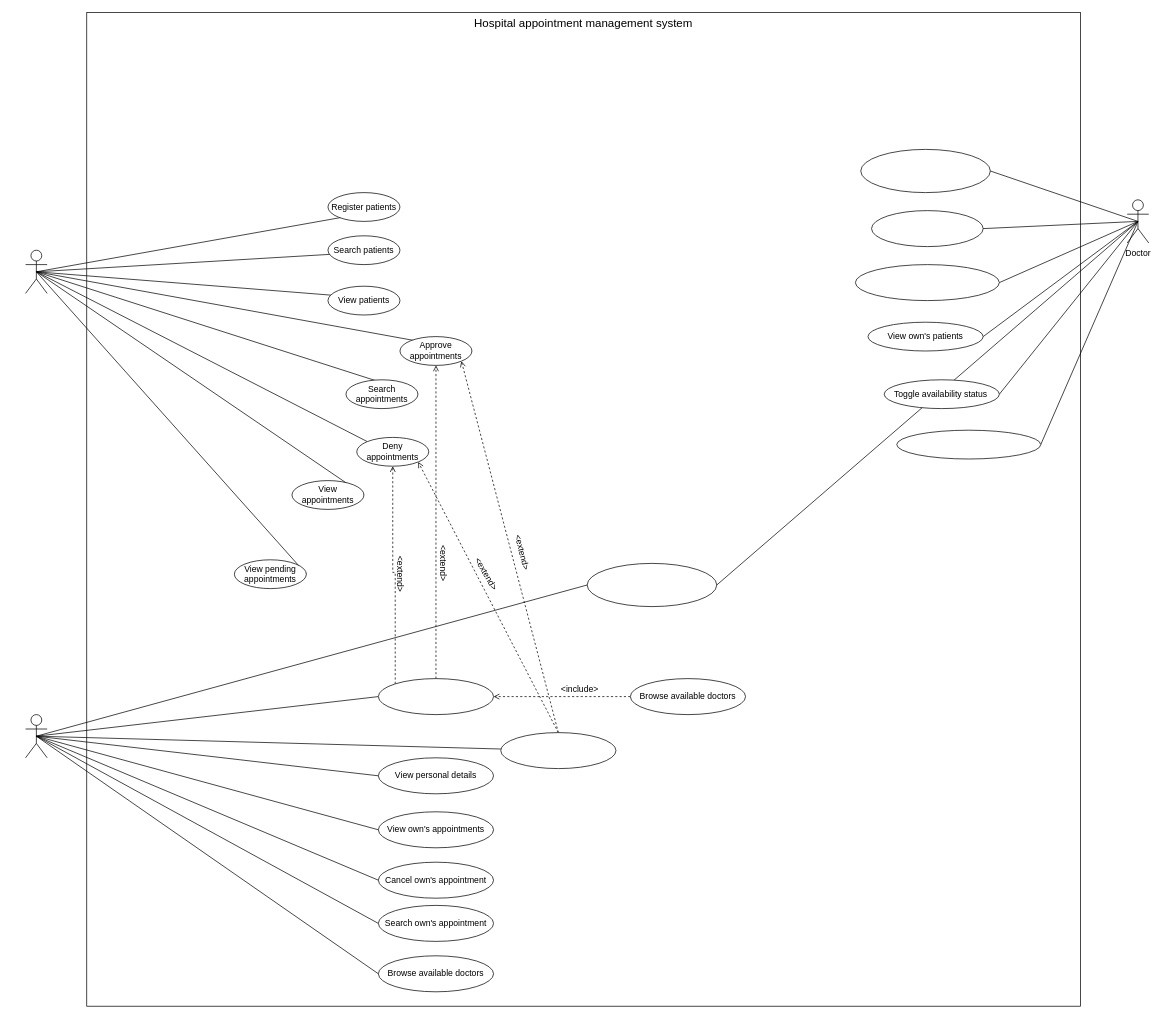
This 1163x1019 diagram has some shape labels left out. Each missing label, with the box of its shape:
Add own appointments' note: (871, 210, 983, 247)
Patient: (25, 714, 47, 758)
Receptionist: (25, 249, 47, 293)
Request an appointment: (378, 678, 494, 715)
Reschedule appointment: (500, 732, 616, 769)
Update own appointments' note: (855, 264, 999, 301)
View appointment detail by ID: (896, 429, 1041, 459)
View own schedule: (860, 149, 990, 193)
View upcoming appointments: (586, 563, 717, 607)
